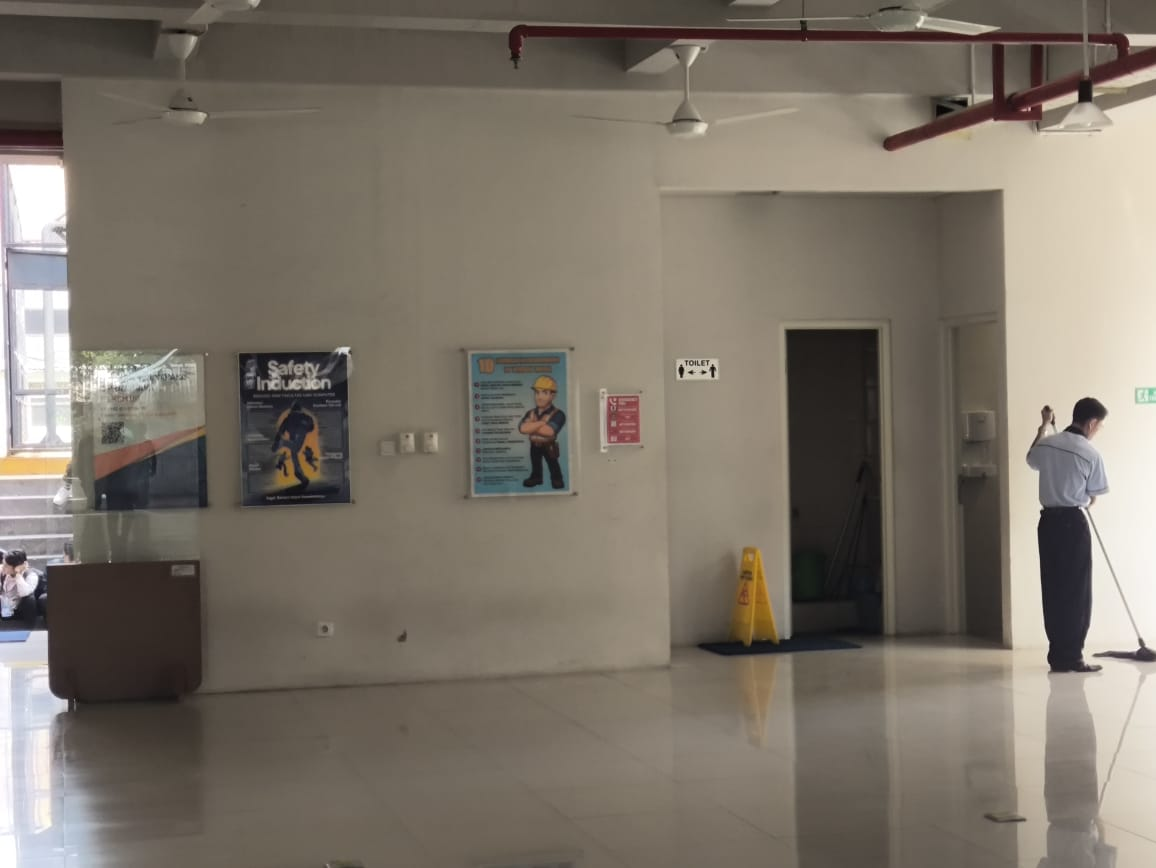toilet: (670, 356, 726, 383)
